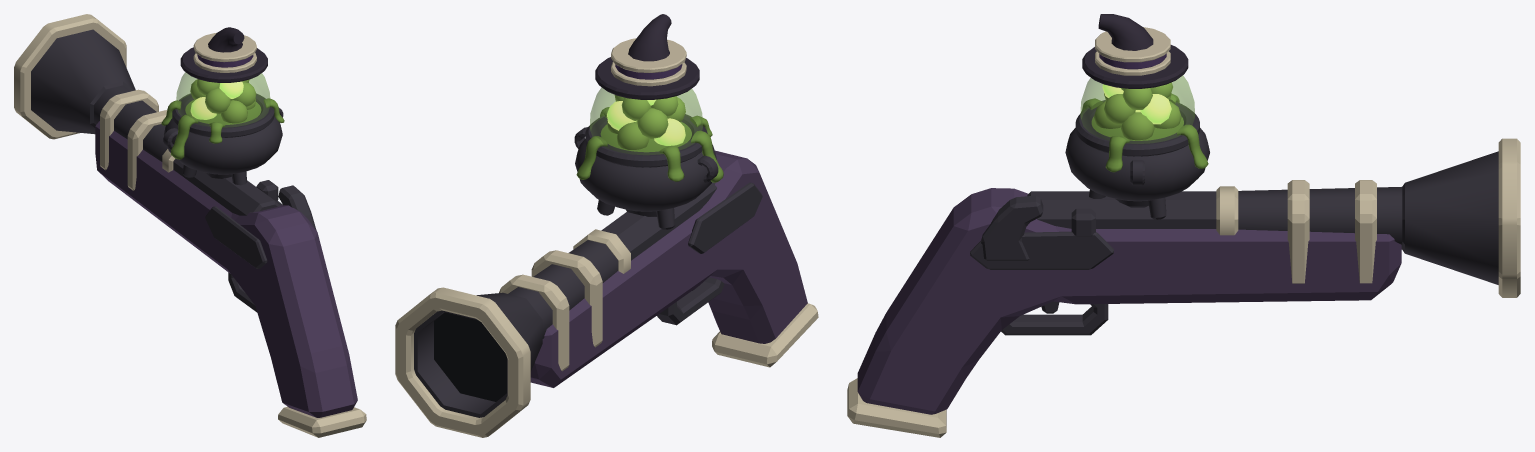
Rendered from w_marbles@marbles_cauldron.glb.
3 renders of one model, left to right at view 1: azimuth 30°, elevation 25°; view 2: azimuth 150°, elevation 25°; view 3: azimuth 270°, elevation 25°, orthographic. The views are drawn at different scales.
Parts seen in each view (by area): view 1: stock_wzA, barrel_wzA, barrel_wzB, marbles_jar_wzN, pot_wzA, barrel_wzN, band_wzN, lock_wzN, pot_wzB, lid_wzN, pot_wzN, cap_wzN (+5 smaller); view 2: stock_wzA, barrel_wzN, marbles_jar_wzN, barrel_wzB, pot_wzA, band_wzN, trim_wzN, barrel_wzA, lid_wzN, pot_wzB, pot_wzN, lock_wzN (+9 smaller); view 3: stock_wzA, barrel_wzB, barrel_wzA, lock_wzN, marbles_jar_wzN, pot_wzA, band_wzN, barrel_wzN, lid_wzN, pot_wzB, cap_wzN, guard_wzN (+5 smaller).
Boxes of the visible parts, x1,y1,x2,y2 form: stock_wzA: (95, 121, 357, 417); barrel_wzA: (31, 29, 135, 134); barrel_wzB: (94, 85, 280, 215); marbles_jar_wzN: (176, 72, 270, 127); pot_wzA: (164, 116, 282, 174); barrel_wzN: (14, 14, 126, 139); band_wzN: (100, 89, 175, 190); lock_wzN: (205, 180, 316, 268); pot_wzB: (163, 93, 283, 185); lid_wzN: (180, 27, 267, 82); pot_wzN: (161, 98, 284, 159); cap_wzN: (278, 406, 366, 437); stock_wzA: (530, 150, 807, 387); barrel_wzN: (395, 287, 530, 437); marbles_jar_wzN: (589, 87, 702, 154); barrel_wzB: (508, 182, 716, 338); pot_wzA: (575, 139, 716, 211); band_wzN: (499, 229, 630, 371); trim_wzN: (434, 312, 506, 401); barrel_wzA: (414, 292, 542, 417); lid_wzN: (595, 14, 699, 99); pot_wzB: (574, 114, 718, 229); pot_wzN: (576, 107, 723, 182); lock_wzN: (688, 182, 762, 290); stock_wzA: (857, 188, 1401, 414); barrel_wzB: (1027, 187, 1402, 249); barrel_wzA: (1402, 151, 1498, 284); lock_wzN: (970, 195, 1113, 313); marbles_jar_wzN: (1080, 75, 1195, 143); pot_wzA: (1065, 128, 1209, 201); band_wzN: (1216, 180, 1376, 283); barrel_wzN: (1498, 138, 1520, 297); lid_wzN: (1082, 14, 1188, 88); pot_wzB: (1075, 100, 1199, 219); cap_wzN: (847, 378, 946, 437); guard_wzN: (1001, 304, 1108, 335).
Bounding box in the file's own units: 0.1323 × 0.3688 × 0.5487.
